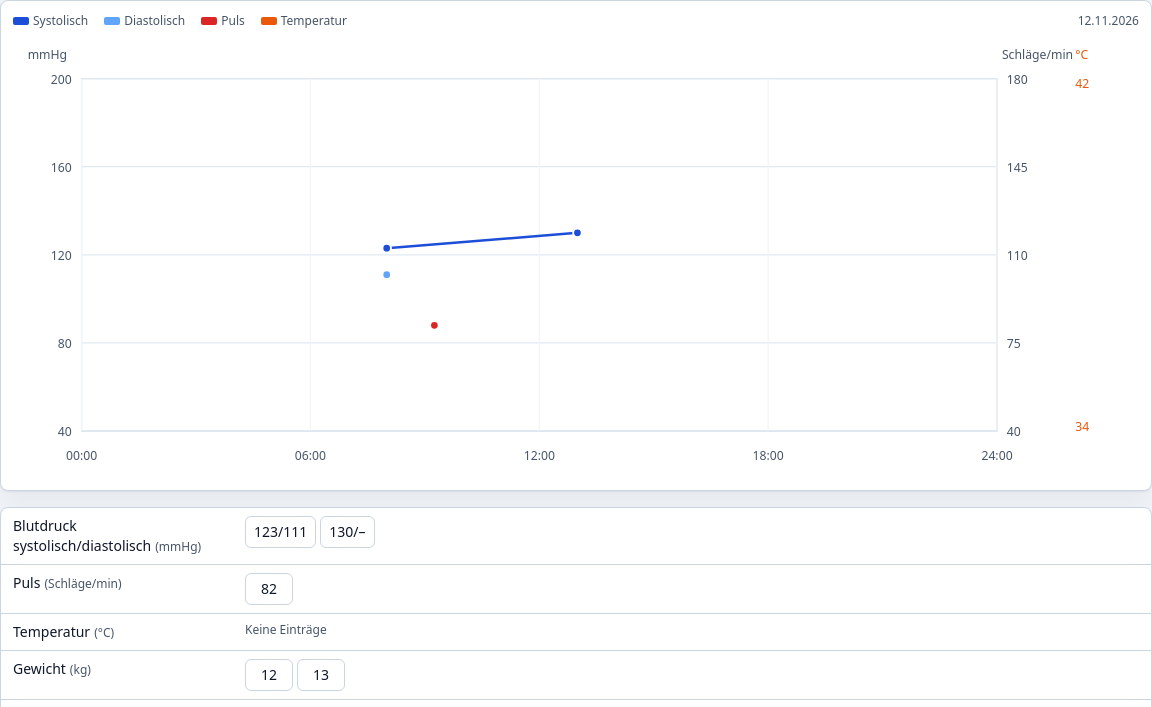
Test: EntryRows › shows the tooltip on keyboard focus
This screenshot has width=1152, height=707.
Focus the button named "Gewicht 12 kg": coordinates (269, 675) [245,659,293,691]
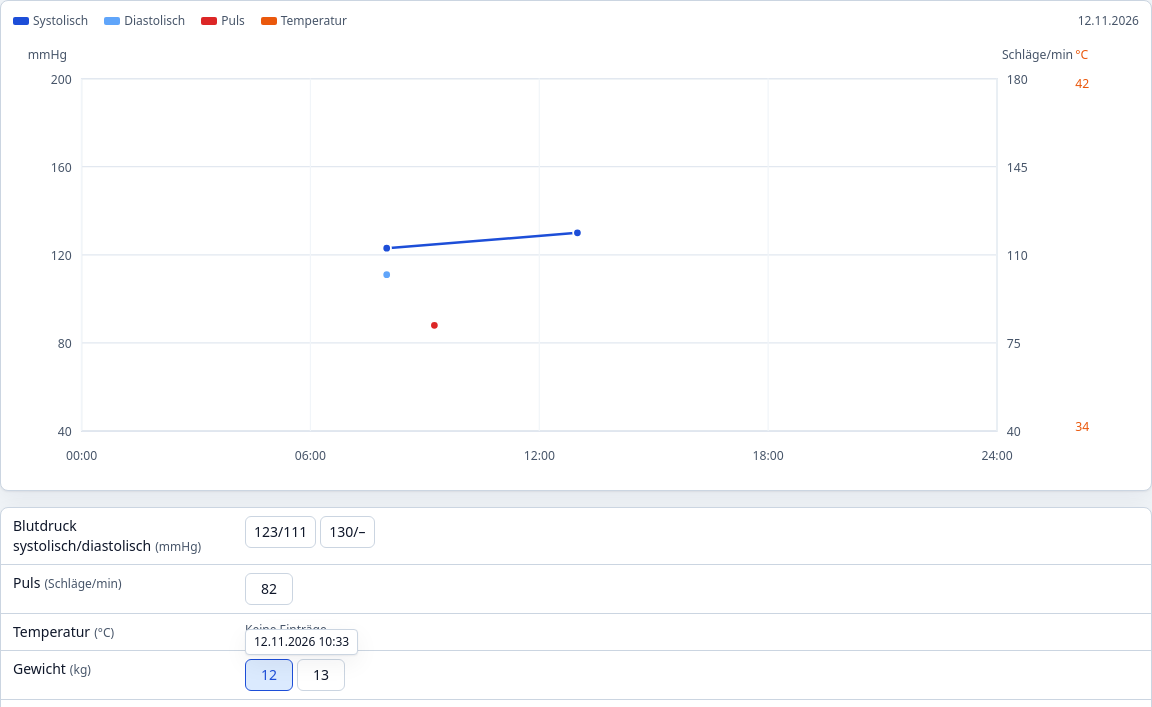
Expected: the tooltip reads "12.11.2026 10:33", [254,633,349,650]
